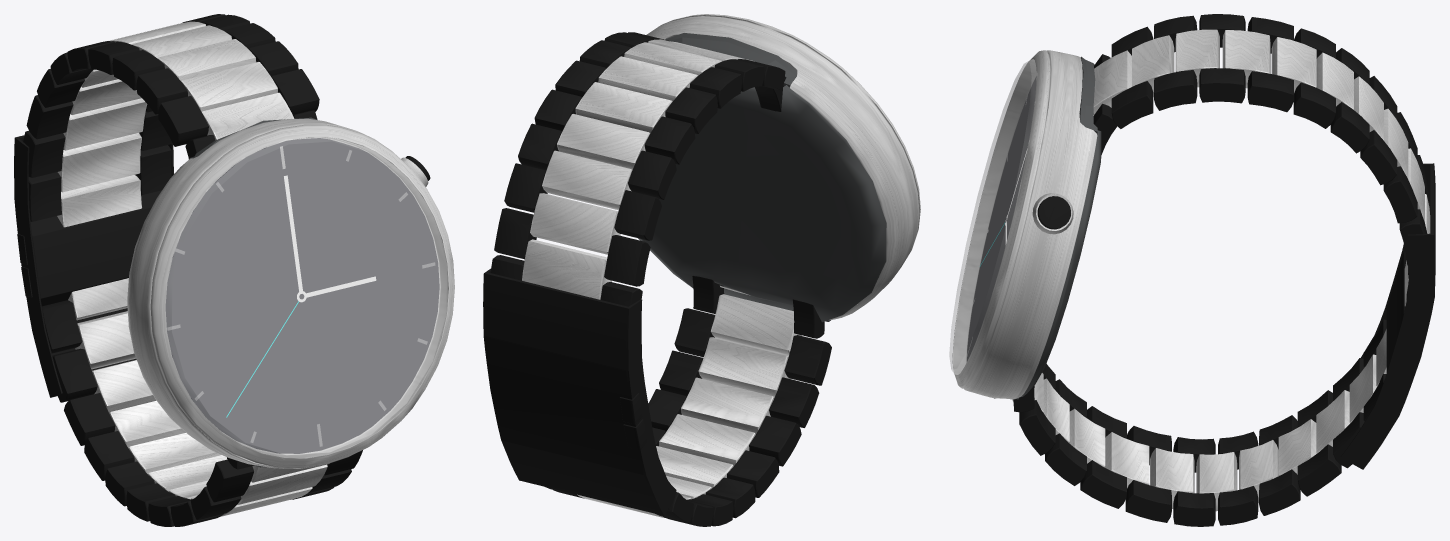
3 views of the same model, side by side, from view 1: azimuth 30°, elevation 25°; view 2: azimuth 150°, elevation 25°; view 3: azimuth 270°, elevation 25° (orthographic).
Visible parts, largest first — view 1: watchGlass, WatchshellTop, FinalStrap1, FinalStrap2, watchShell, strapClip, hrHand1; view 2: FinalStrap1, watchBottom, strapClip, FinalStrap2, watchShell; view 3: FinalStrap2, FinalStrap1, watchShell, watchGlass, strapClip, WatchshellTop, watchBottom.
Part boxes in pixels (left/top/right/bottom): watchGlass: left=165, top=136, right=448, bottom=459; WatchshellTop: left=165, top=138, right=439, bottom=453; FinalStrap1: left=23, top=14, right=319, bottom=227; FinalStrap2: left=42, top=278, right=362, bottom=526; watchShell: left=127, top=118, right=454, bottom=468; strapClip: left=14, top=135, right=173, bottom=397; hrHand1: left=284, top=175, right=302, bottom=291; FinalStrap1: left=491, top=32, right=785, bottom=306; watchBottom: left=638, top=33, right=886, bottom=322; strapClip: left=483, top=268, right=675, bottom=515; FinalStrap2: left=545, top=276, right=831, bottom=526; watchShell: left=646, top=14, right=920, bottom=319; FinalStrap2: left=1012, top=319, right=1386, bottom=526; FinalStrap1: left=1093, top=14, right=1430, bottom=306; watchShell: left=952, top=50, right=1097, bottom=399; watchGlass: left=949, top=60, right=1037, bottom=374; strapClip: left=1340, top=163, right=1435, bottom=469; WatchshellTop: left=967, top=76, right=1036, bottom=360; watchBottom: left=994, top=56, right=1101, bottom=399.
Size of the model in its own units: 10.65 by 14.89 by 14.75.
6 materials, 5 textured.
